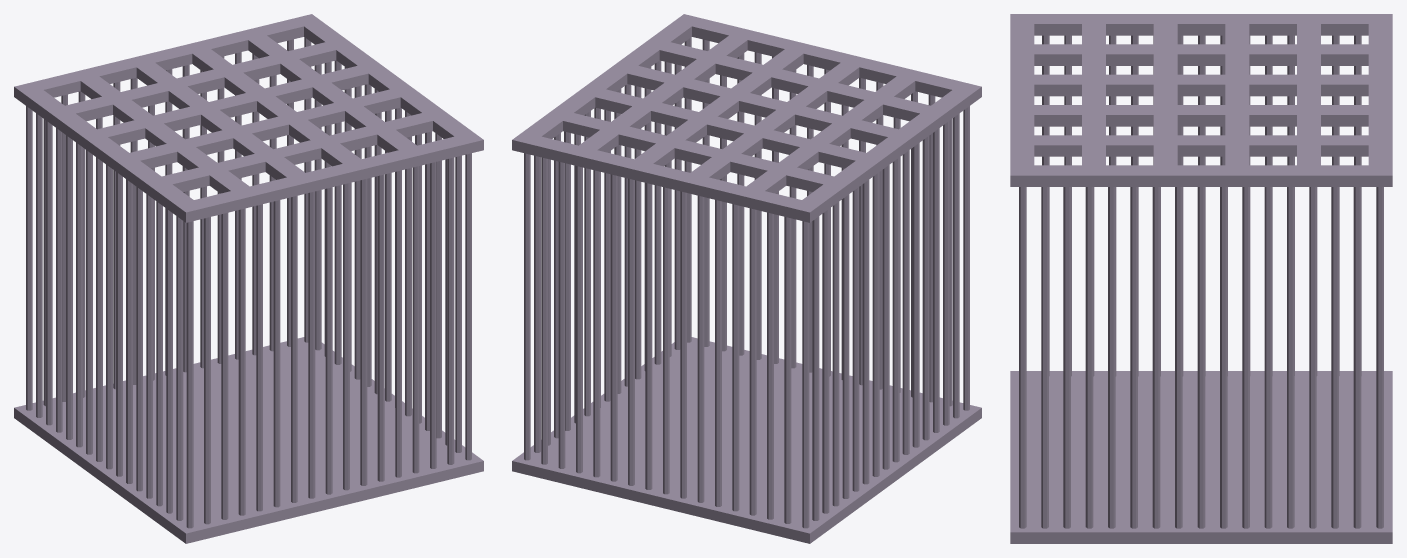
Rendered from cage-2.fbx.
3 views of the same model, side by side, from view 1: azimuth 30°, elevation 25°; view 2: azimuth 150°, elevation 25°; view 3: azimuth 270°, elevation 25° (orthographic). The views are drawn at different scales.
Parts seen in each view (by area): view 1: ceiling, floor, Cylinder.026, Cylinder.001, Cylinder.021, Cylinder.024, Cylinder.027, Cylinder.030, Cylinder.032, Cylinder.022, Cylinder.034, Cylinder.029 (+48 smaller); view 2: ceiling, floor, Cylinder.053, Cylinder.060, Cylinder.002, Cylinder.052, Cylinder.058, Cylinder.061, Cylinder.050, Cylinder.063, Cylinder.055, Cylinder.006 (+50 smaller); view 3: ceiling, floor, Cylinder.004, Cylinder.037, Cylinder.041, Cylinder.044, Cylinder.047, Cylinder.039, Cylinder.042, Cylinder, Cylinder.003, Cylinder.035 (+18 smaller).
Part boxes in pixels (box(x1,y1,x2,y2)): ceiling: box(14, 14, 483, 222); floor: box(14, 337, 483, 543); Cylinder.026: box(308, 191, 315, 498); Cylinder.001: box(186, 221, 193, 528); Cylinder.021: box(221, 212, 228, 519); Cylinder.024: box(273, 200, 280, 507); Cylinder.027: box(325, 187, 332, 494); Cylinder.030: box(377, 174, 384, 481); Cylinder.032: box(412, 166, 419, 473); Cylinder.022: box(238, 208, 245, 515); Cylinder.034: box(447, 157, 454, 464); Cylinder.029: box(360, 179, 367, 485); ceiling: box(512, 14, 981, 222); floor: box(512, 337, 981, 543); Cylinder.053: box(610, 174, 617, 481); Cylinder.060: box(732, 204, 739, 511); Cylinder.002: box(802, 221, 809, 528); Cylinder.052: box(593, 170, 600, 477); Cylinder.058: box(697, 195, 704, 502); Cylinder.061: box(749, 208, 756, 515); Cylinder.050: box(558, 162, 565, 468); Cylinder.063: box(784, 216, 791, 523); Cylinder.055: box(645, 183, 652, 489); Cylinder.006: box(822, 209, 829, 513); ceiling: box(1010, 14, 1392, 186); floor: box(1010, 371, 1392, 543); Cylinder.004: box(1197, 187, 1205, 528); Cylinder.037: box(1264, 187, 1272, 528); Cylinder.041: box(1353, 187, 1361, 528); Cylinder.044: box(1085, 187, 1093, 528); Cylinder.047: box(1152, 187, 1160, 528); Cylinder.039: box(1309, 187, 1316, 528); Cylinder.042: box(1041, 187, 1048, 528); Cylinder: box(1376, 187, 1383, 528); Cylinder.003: box(1019, 187, 1026, 528); Cylinder.035: box(1220, 187, 1227, 528).
Size of the model in its own units: 300 by 319 by 300.
1 material, 1 textured.
